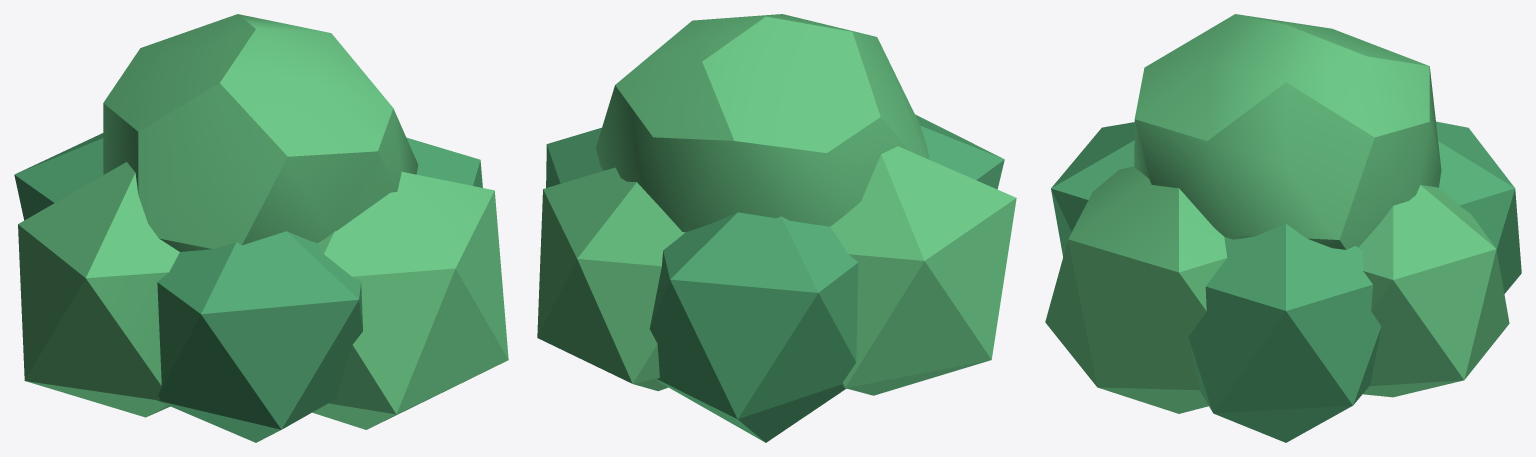
The model's file is arbusto.glb.
The picture shows the model from 3 angles, left to right: view 1: azimuth 30°, elevation 25°; view 2: azimuth 150°, elevation 25°; view 3: azimuth 270°, elevation 25°; orthographic projection. The views are drawn at different scales.
Parts seen in each view (by area): view 1: arbusto; view 2: arbusto; view 3: arbusto.
Part boxes in pixels (left/top/right/bottom): arbusto: left=14, top=14, right=508, bottom=442; arbusto: left=537, top=14, right=1016, bottom=442; arbusto: left=1045, top=14, right=1521, bottom=442.
Bounding box in the file's own units: 1.86 × 1.49 × 1.73.
